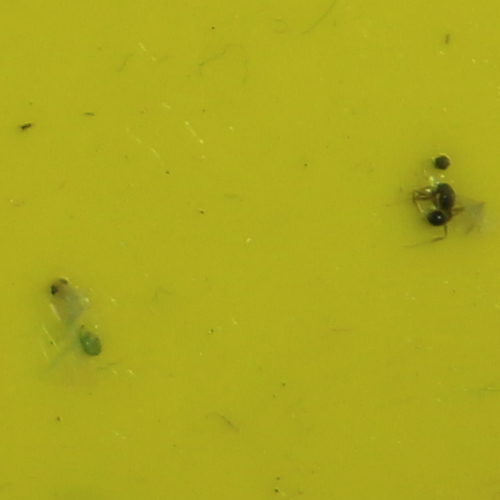psylla: (38, 276, 104, 356)
